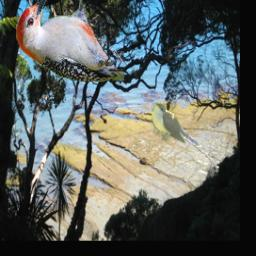Cuckoo: (152, 102, 202, 147)
Woodpecker: (17, 0, 125, 82)
